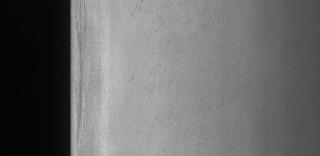silk spot: (125, 3, 222, 145)
